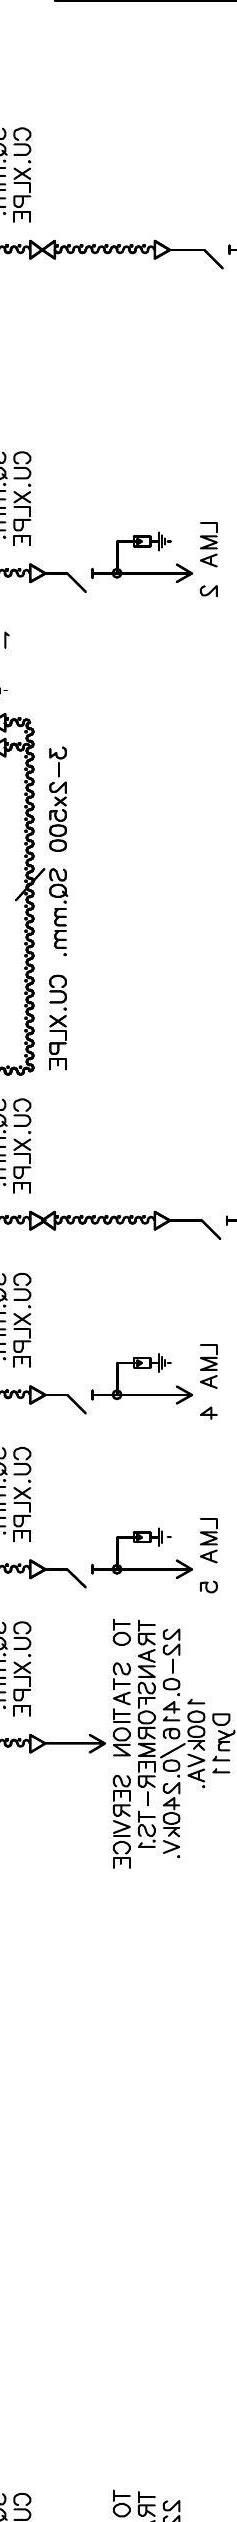22_ds_la_out: (66, 531, 193, 594), (66, 1353, 193, 1415), (66, 1526, 193, 1589)
terminator_single: (27, 1732, 47, 1755), (27, 1559, 47, 1581), (27, 1383, 47, 1406), (152, 1210, 171, 1232), (27, 561, 47, 584), (152, 240, 171, 262)
terminator_splicing_kits: (29, 240, 56, 261), (29, 1210, 56, 1230)
